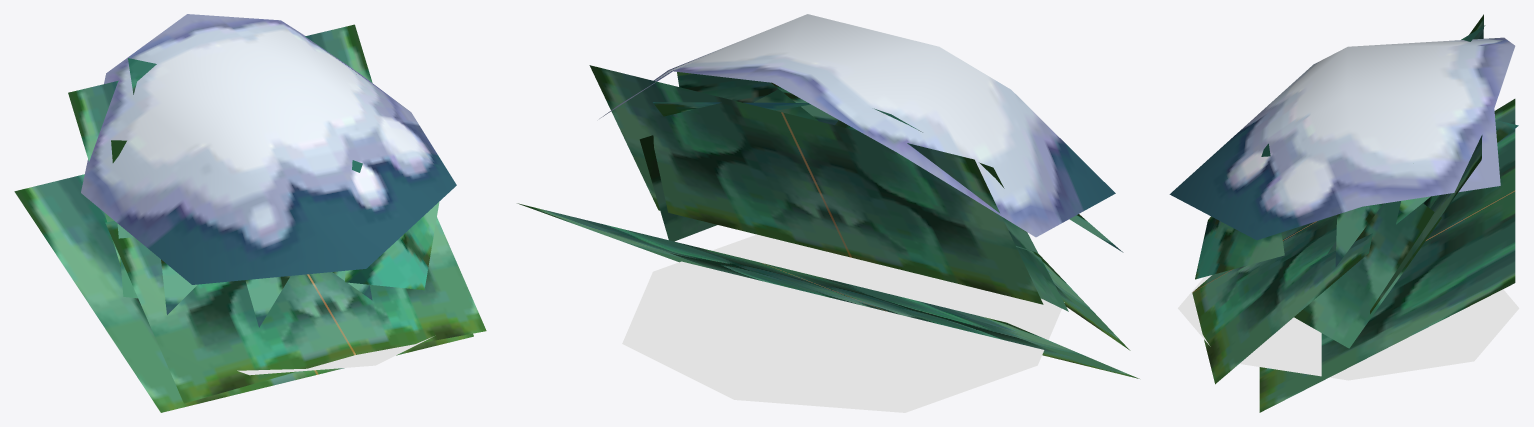
File: fg_bushD_2_s.fbx
3 renders of one model, left to right at view 1: azimuth 30°, elevation 25°; view 2: azimuth 150°, elevation 25°; view 3: azimuth 270°, elevation 25°, orthographic. The views are drawn at different scales.
Parts seen in each view (by area): view 1: fg_bushD_2_s, sdw_circle; view 2: fg_bushD_2_s, sdw_circle; view 3: fg_bushD_2_s, sdw_circle.
Boxes of the visible parts, <box> form: fg_bushD_2_s: <box>14,14,486,412</box>; sdw_circle: <box>237,336,433,375</box>; fg_bushD_2_s: <box>517,14,1139,378</box>; sdw_circle: <box>622,234,1064,412</box>; fg_bushD_2_s: <box>1169,14,1518,412</box>; sdw_circle: <box>1178,275,1519,380</box>.
Bounding box in the file's own units: 0.1495 × 0.1072 × 0.1198.
2 materials, 2 textured.
